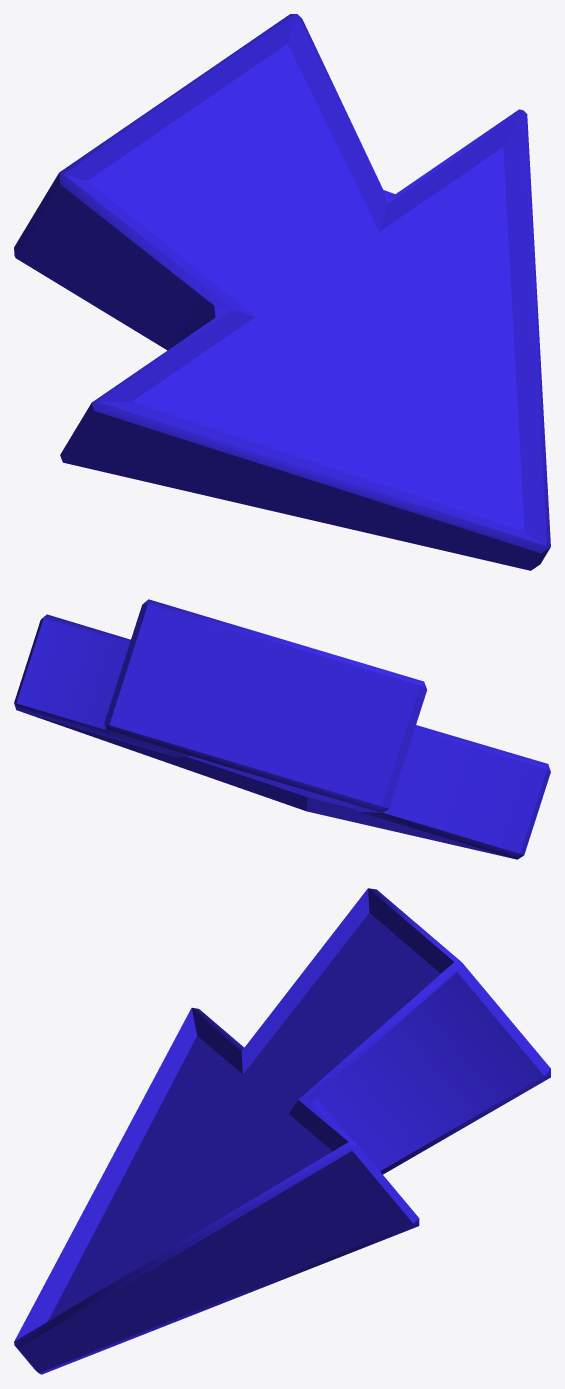
3 views of the same model, one above another, from view 1: azimuth 30°, elevation 25°; view 2: azimuth 150°, elevation 25°; view 3: azimuth 270°, elevation 25° (orthographic). The views are drawn at different scales.
Visible parts, largest first — view 1: node_id5; view 2: node_id5; view 3: node_id5.
Boxes of the visible parts, x1,y1,x2,y2 form: node_id5: (14, 14, 550, 570); node_id5: (14, 599, 550, 859); node_id5: (14, 888, 550, 1374).
Size of the model in its own units: 0.4842 by 0.3667 by 0.4455.
